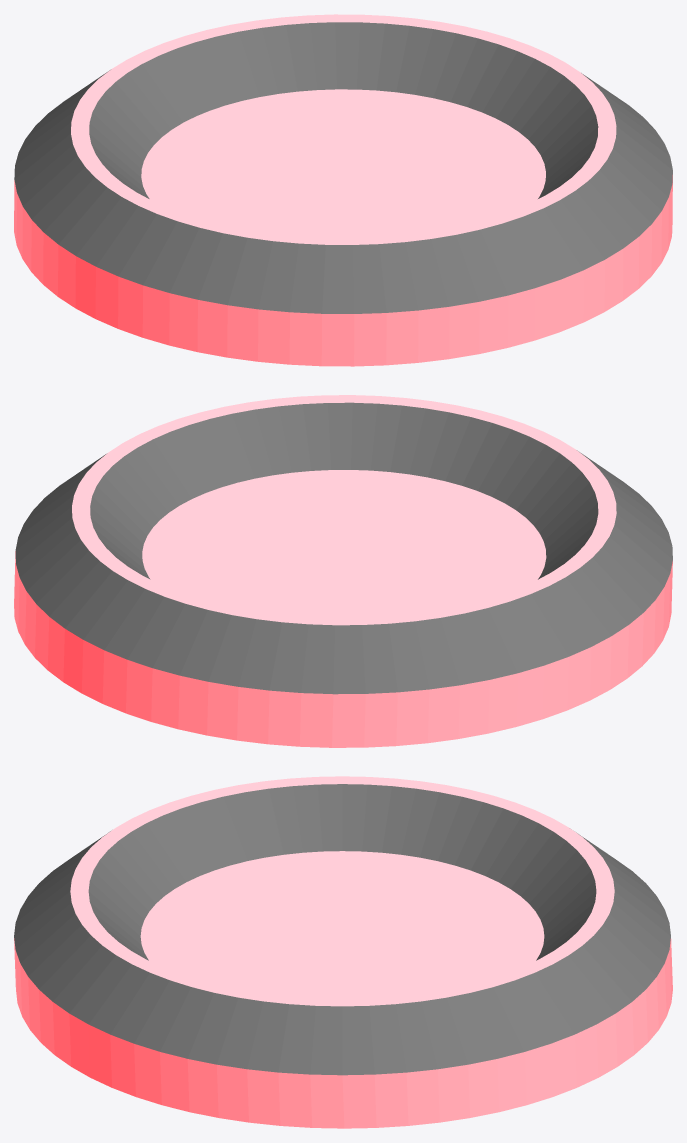
Rendered from MortarDefender fire 1.fbx.
The picture shows the model from 3 angles, top to bottom: view 1: azimuth 30°, elevation 25°; view 2: azimuth 150°, elevation 25°; view 3: azimuth 270°, elevation 25°; orthographic projection.
Visible parts, largest first — view 1: MortarDefender fire 1; view 2: MortarDefender fire 1; view 3: MortarDefender fire 1.
Boxes of the visible parts, left/top/right/bottom form: MortarDefender fire 1: left=14, top=14, right=672, bottom=366; MortarDefender fire 1: left=14, top=395, right=672, bottom=747; MortarDefender fire 1: left=14, top=776, right=672, bottom=1128.
Bounding box in the file's own units: 32.9 × 5.42 × 32.97.
